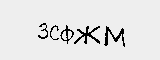Ж: (73, 22, 101, 49)
З: (37, 21, 47, 40)
М: (104, 24, 125, 49)
С: (48, 20, 58, 42)
Ф: (60, 26, 76, 44)
